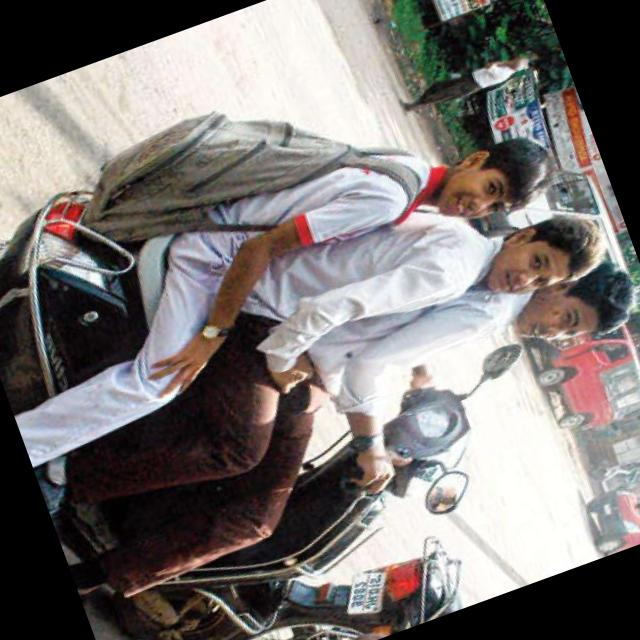bareface: (504, 257, 640, 368)
